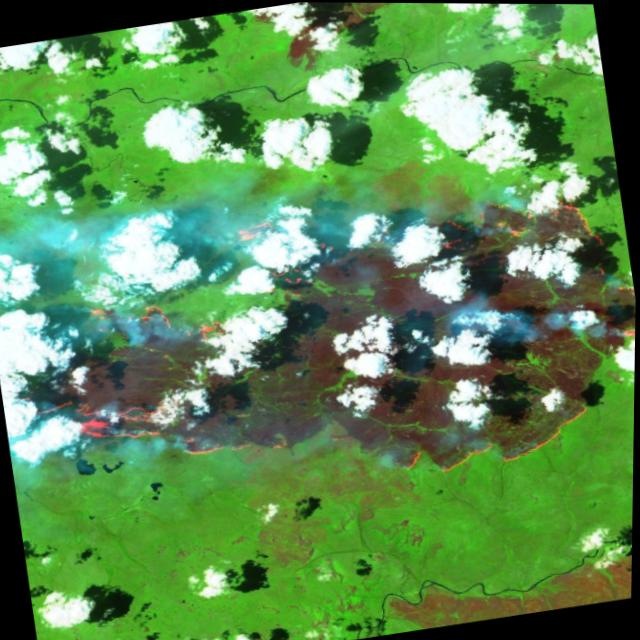fire: (0, 147, 638, 541)
